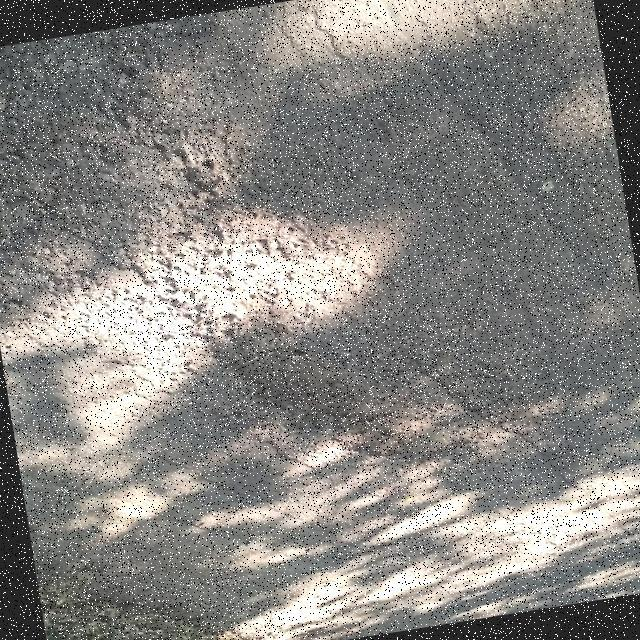Pothole: (163, 121, 463, 462)
